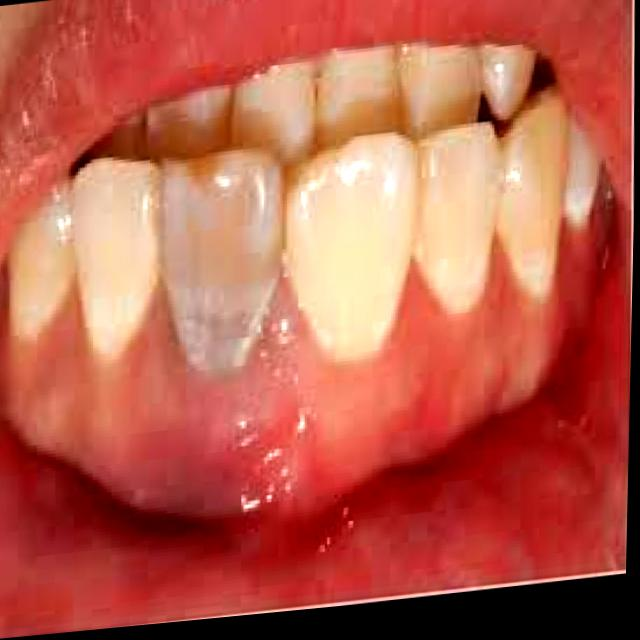tooth-discoloration: (161, 152, 282, 375)
